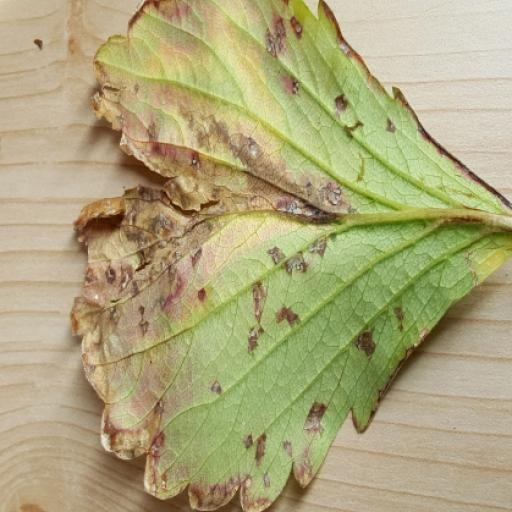Angular Leafspot: (68, 0, 511, 511)
